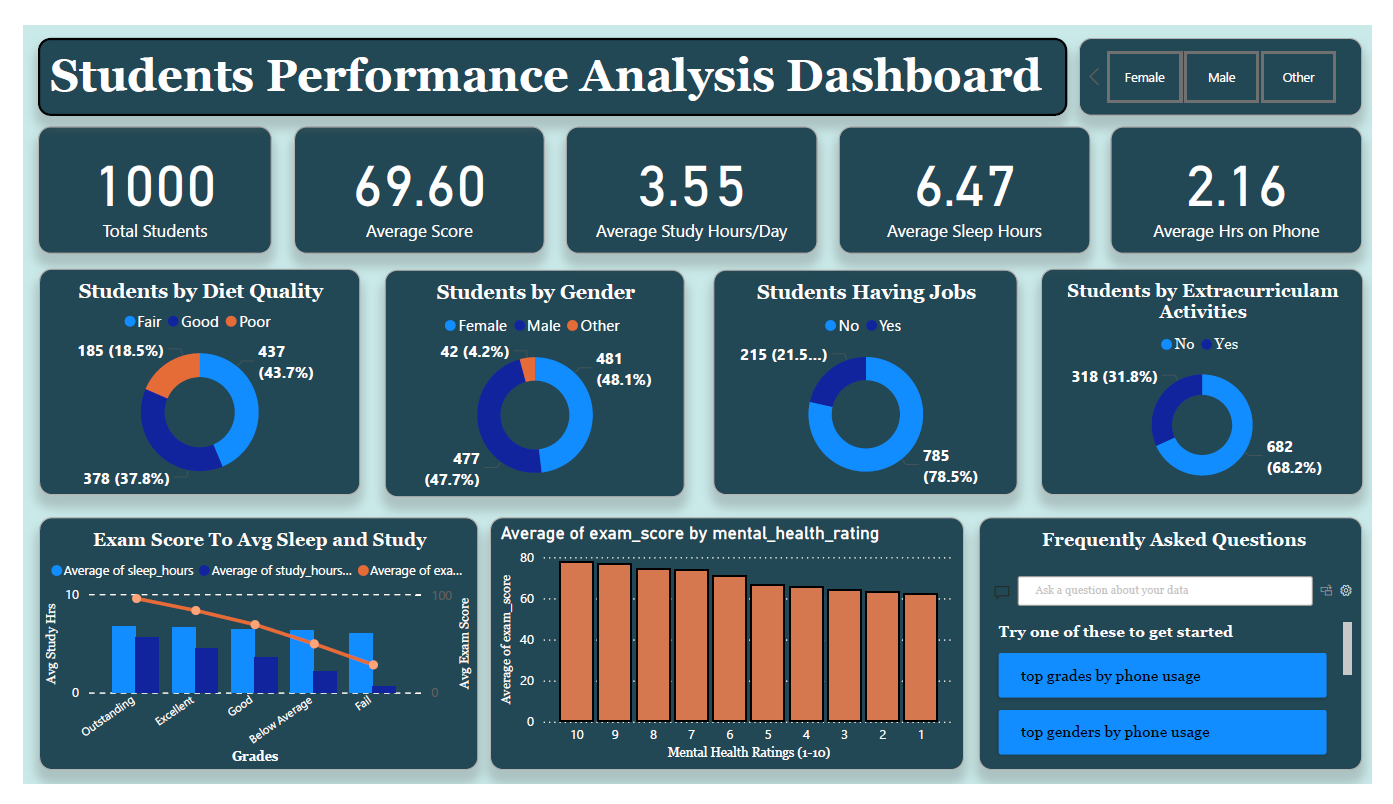

This screenshot's page, from the dashboard's own definition file:
{"tool":"powerbi","page":{"name":"Page 1","canvas":[1280,720],"ordinal":0},"visuals":[{"type":"card","fields":{"Values":["CountNonNull(student_habits_performance.student_id)"]},"box":[13.7,96.1,222.3,120.8],"z":0},{"type":"card","fields":{"Values":["Avg(student_habits_performance.exam_score)"]},"box":[256.6,96.1,238.8,120.8],"z":1000},{"type":"textbox","box":[13.7,12.3,977,74.1],"z":2000},{"type":"slicer","fields":{"Values":["student_habits_performance.gender"]},"box":[1001.7,12.3,269,74.1],"z":3000},{"type":"donutChart","title":"Students by Diet Quality","fields":{"Category":["student_habits_performance.diet_quality"],"Y":["CountNonNull(student_habits_performance.diet_quality)"]},"box":[14.7,231,305,215],"z":4000},{"type":"donutChart","title":"Students by Gender","fields":{"Y":["CountNonNull(student_habits_performance.gender)"],"Category":["student_habits_performance.gender"]},"box":[343,232.2,285.4,215.4],"z":5000},{"type":"donutChart","title":"Students Having Jobs","fields":{"Y":["CountNonNull(student_habits_performance.part_time_job)"],"Category":["student_habits_performance.part_time_job"]},"box":[654.5,232.2,289.5,214.1],"z":6000},{"type":"donutChart","title":"Students by Extracurriculam Activities","fields":{"Category":["student_habits_performance.extracurricular_participation"],"Y":["CountNonNull(student_habits_performance.extracurricular_participation)"]},"box":[966,230.8,306,215.4],"z":7000},{"type":"card","fields":{"Values":["Avg(student_habits_performance.study_hours_per_day)"]},"box":[515,95.8,239.2,120.8],"z":8000},{"type":"card","fields":{"Values":["Avg(student_habits_performance.sleep_hours)"]},"box":[773.9,96.1,238.8,120.8],"z":9000},{"type":"card","fields":{"Values":["student_habits_performance.Phone Usage"]},"box":[1031.9,96.1,238.8,120.8],"z":10000},{"type":"lineClusteredColumnComboChart","title":"Exam Score To Avg Sleep and Study","fields":{"Category":["student_habits_performance.Grade"],"Y2":["Avg(student_habits_performance.exam_score)"],"Y":["Avg(student_habits_performance.sleep_hours)","Avg(student_habits_performance.study_hours_per_day)"]},"box":[15,466.7,416.7,240],"z":11000},{"type":"columnChart","fields":{"Category":["student_habits_performance.mental_health_rating"],"Y":["Avg(student_habits_performance.exam_score)"]},"box":[443.2,466.6,450.1,240.1],"z":12000},{"type":"qnaVisual","title":"Frequently Asked Questions","box":[907,466.6,363.6,240.1],"z":13000}]}

Visuals, with their boxes in screenshot pixels (x1, y1, x2, y2), scaled from the page's 1280x720 canvas onto the 1393x804 screenshot:
card - CountNonNull(student_habits_performance.student_id): region(15, 107, 257, 242)
card - Avg(student_habits_performance.exam_score): region(279, 107, 539, 242)
textbox: region(15, 14, 1078, 96)
slicer - student_habits_performance.gender: region(1090, 14, 1383, 96)
"Students by Diet Quality" donutChart: region(16, 258, 348, 498)
"Students by Gender" donutChart: region(373, 259, 684, 500)
"Students Having Jobs" donutChart: region(712, 259, 1027, 498)
"Students by Extracurriculam Activities" donutChart: region(1051, 258, 1384, 498)
card - Avg(student_habits_performance.study_hours_per_day): region(560, 107, 821, 242)
card - Avg(student_habits_performance.sleep_hours): region(842, 107, 1102, 242)
card - student_habits_performance.Phone Usage: region(1123, 107, 1383, 242)
"Exam Score To Avg Sleep and Study" lineClusteredColumnComboChart: region(16, 521, 470, 789)
columnChart - student_habits_performance.mental_health_rating x Avg(student_habits_performance.exam_score): region(482, 521, 972, 789)
"Frequently Asked Questions" qnaVisual: region(987, 521, 1383, 789)
